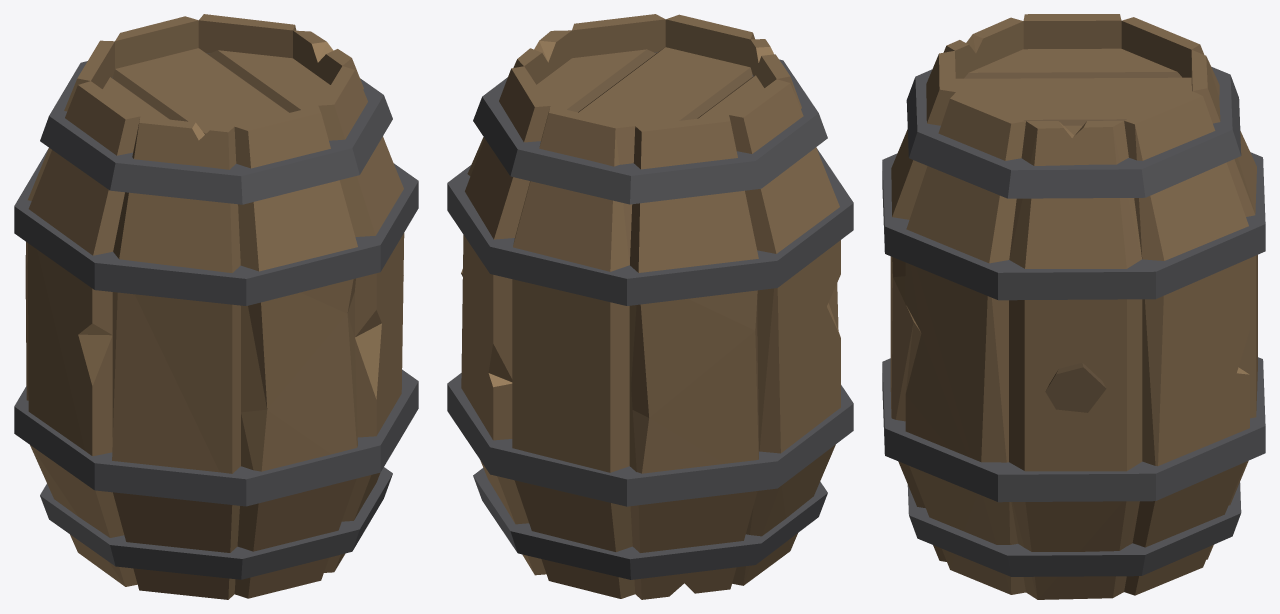
File: poly_barrel_a.glb
The picture shows the model from 3 angles, left to right: view 1: azimuth 30°, elevation 25°; view 2: azimuth 150°, elevation 25°; view 3: azimuth 270°, elevation 25°; orthographic projection.
Visible parts, largest first — view 1: SM_Prop_Barrel_01; view 2: SM_Prop_Barrel_01; view 3: SM_Prop_Barrel_01.
Part boxes in pixels (left/top/right/bottom): SM_Prop_Barrel_01: left=14, top=14, right=418, bottom=599; SM_Prop_Barrel_01: left=447, top=14, right=853, bottom=599; SM_Prop_Barrel_01: left=882, top=14, right=1265, bottom=599.
Size of the model in its own units: 88.45 by 117 by 86.21.
1 material, 1 textured.
